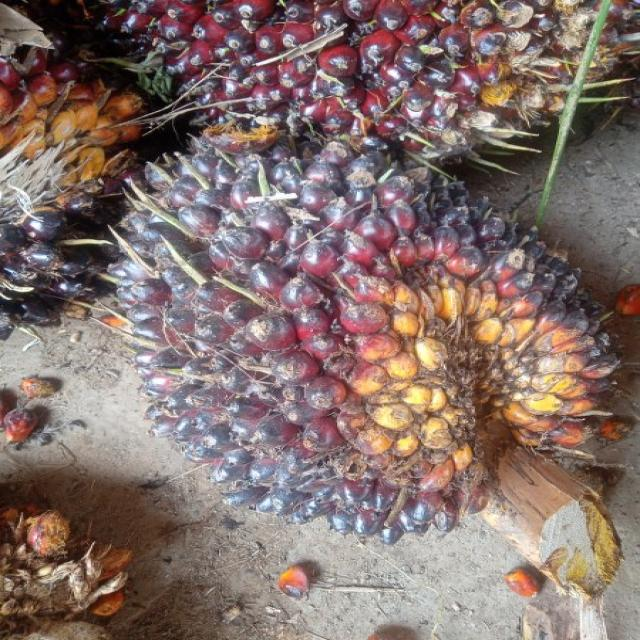fraksi 1: (114, 138, 618, 528)
